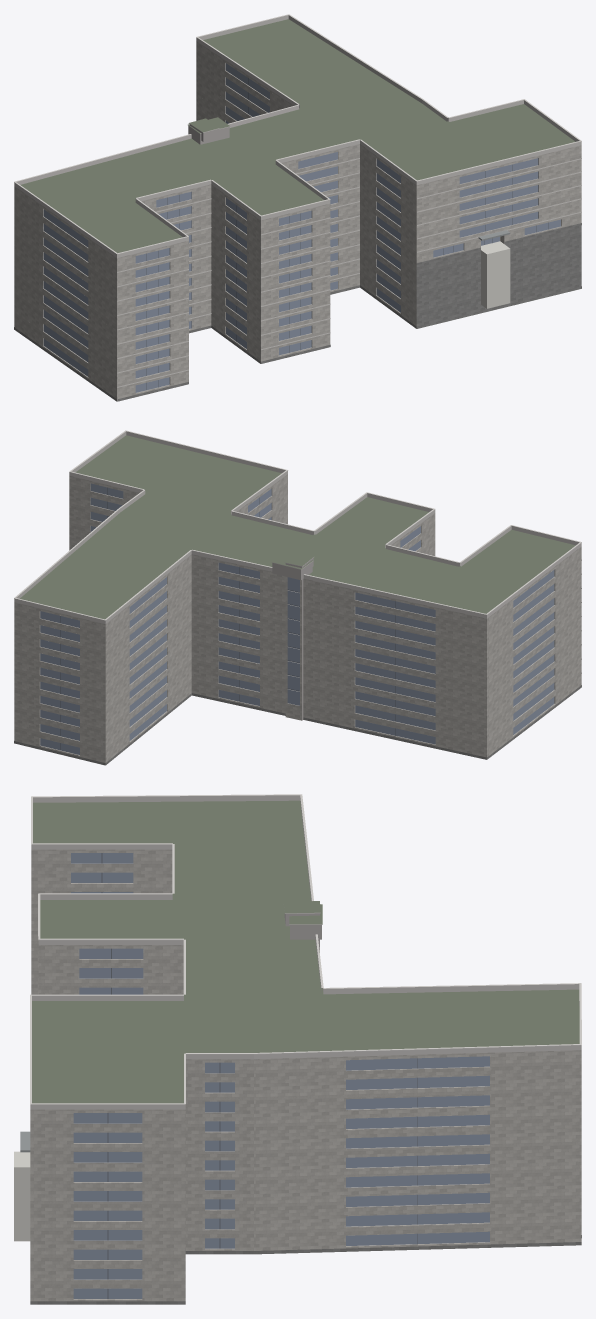
The picture shows the model from 3 angles, top to bottom: view 1: azimuth 30°, elevation 25°; view 2: azimuth 150°, elevation 25°; view 3: azimuth 270°, elevation 25°; orthographic projection. The views are drawn at different scales.
Parts seen in each view (by area): view 1: b220__wall, b220__roof, b220__glass, b220__base, b220__trim, b220__parapet, b220__entranceStair, b220__frame, b220__wall2; view 2: b220__wall, b220__roof, b220__glass, b220__parapet, b220__trim, b220__base, b220__wall2; view 3: b220__wall, b220__roof, b220__glass, b220__parapet, b220__trim, b220__base, b220__entranceStair.
Boxes of the visible parts, x1,y1,x2,y2 form: b220__wall: (14,41,581,401); b220__roof: (21,19,575,253); b220__glass: (43,63,560,392); b220__base: (14,223,581,401); b220__trim: (14,14,581,387); b220__parapet: (14,15,581,257); b220__entranceStair: (481,241,510,308); b220__frame: (146,78,548,389); b220__wall2: (188,124,229,144); b220__wall: (14,474,581,764); b220__roof: (20,435,575,619); b220__glass: (40,483,554,754); b220__parapet: (14,431,581,624); b220__trim: (14,430,581,673); b220__base: (14,685,581,765); b220__wall2: (272,558,313,720); b220__wall: (30,849,581,1301); b220__roof: (32,800,579,1103); b220__glass: (71,853,489,1298); b220__parapet: (30,795,581,1109); b220__trim: (30,794,581,1104); b220__base: (30,1235,581,1304); b220__entranceStair: (14,1151,30,1241).
Size of the model in its own units: 119 by 38.41 by 92.4.
Materials: 11 (2 with a texture image).
